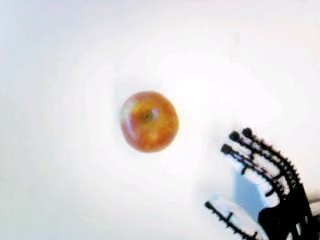apple: (118, 90, 179, 152)
hand: (205, 129, 315, 237)
